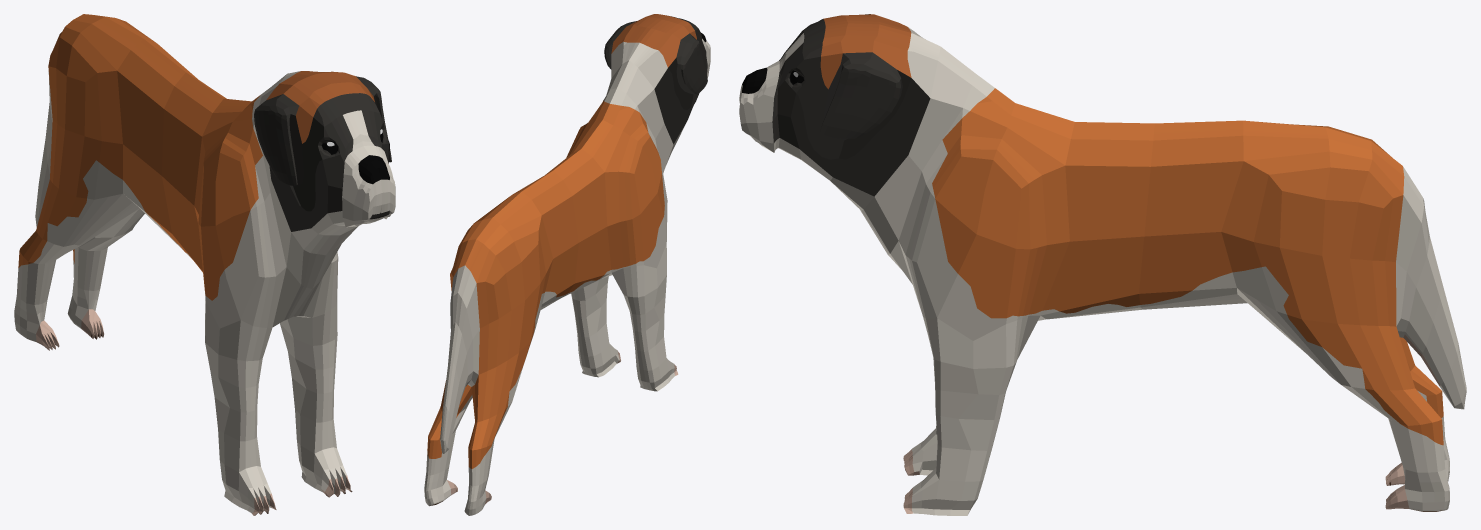
Rendered from saint_bernard.glb.
3 renders of one model, left to right at view 1: azimuth 30°, elevation 25°; view 2: azimuth 150°, elevation 25°; view 3: azimuth 270°, elevation 25°, orthographic. The views are drawn at different scales.
Visible parts, largest first — view 1: Cube_1; view 2: Cube_1; view 3: Cube_1.
Part boxes in pixels (x1,y1,x2,y2): Cube_1: (14,14,395,515); Cube_1: (424,14,710,515); Cube_1: (739,14,1466,515).
Bounding box in the file's own units: 0.2549 × 1 × 1.39.
